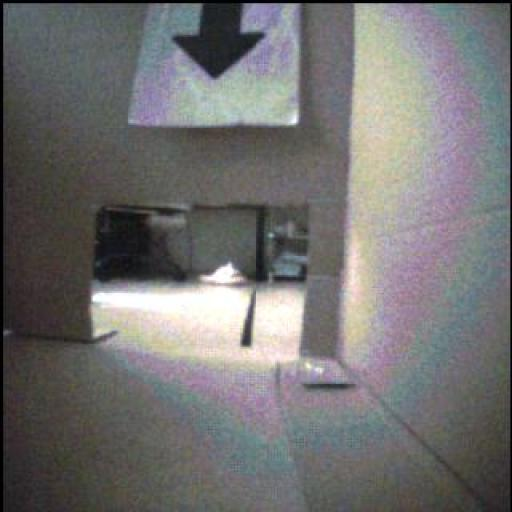arrow: (174, 5, 265, 80)
